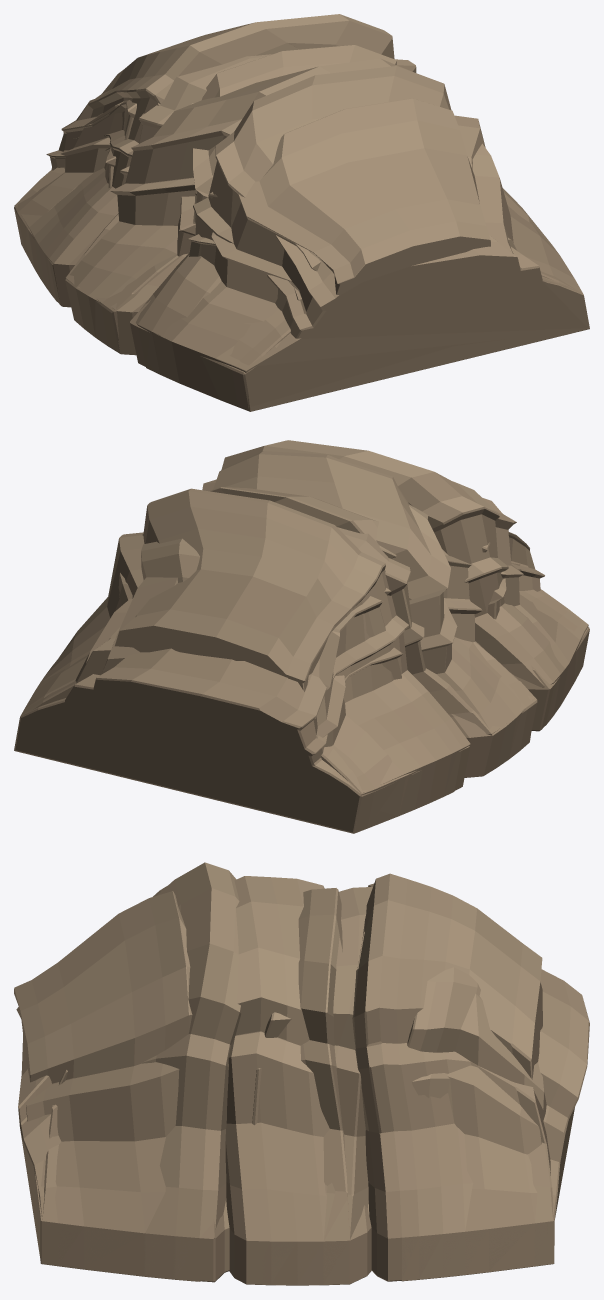
The model's file is scarps.glb.
3 renders of one model, top to bottom at view 1: azimuth 30°, elevation 25°; view 2: azimuth 150°, elevation 25°; view 3: azimuth 270°, elevation 25°, orthographic. The views are drawn at different scales.
Parts seen in each view (by area): view 1: scarp_0, scarp_2, scarp_1; view 2: scarp_1, scarp_2, scarp_0; view 3: scarp_0, scarp_2, scarp_1.
Part boxes in pixels (left/top/right/bottom): scarp_0: left=14, top=58, right=589, bottom=411; scarp_2: left=15, top=14, right=587, bottom=410; scarp_1: left=14, top=54, right=581, bottom=373; scarp_1: left=15, top=440, right=587, bottom=832; scarp_2: left=20, top=487, right=589, bottom=808; scarp_0: left=14, top=451, right=588, bottom=833; scarp_0: left=14, top=876, right=554, bottom=1285; scarp_2: left=16, top=873, right=553, bottom=1284; scarp_1: left=42, top=862, right=589, bottom=1283.
Size of the model in its own units: 2.26 by 1.2 by 2.36.
